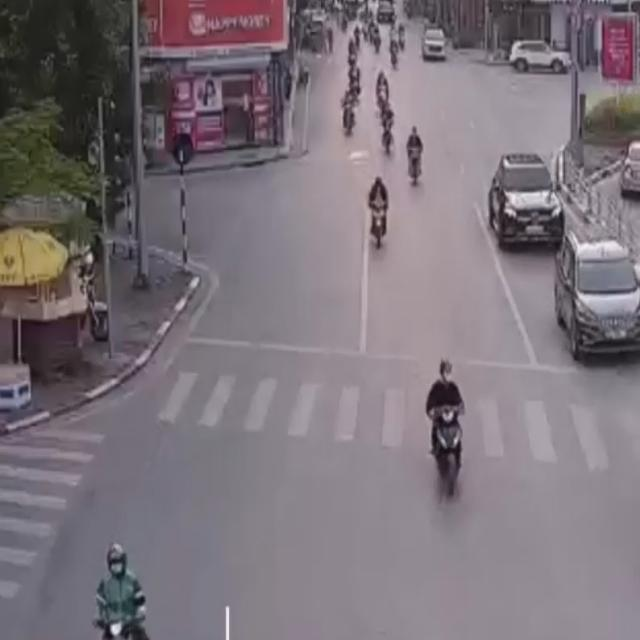car: (548, 224, 640, 360), (486, 150, 564, 256)
motorbike: (87, 505, 157, 640), (421, 354, 474, 505), (365, 168, 392, 250), (404, 123, 430, 193), (380, 104, 400, 159), (340, 86, 359, 142), (376, 66, 392, 111)
